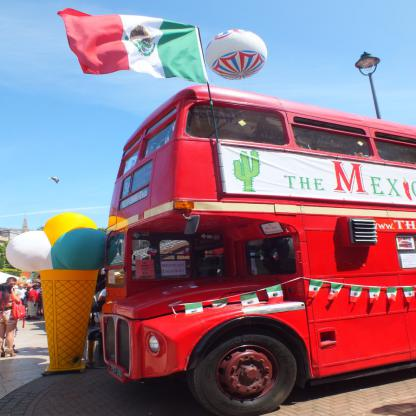Bus: (84, 81, 415, 415)
